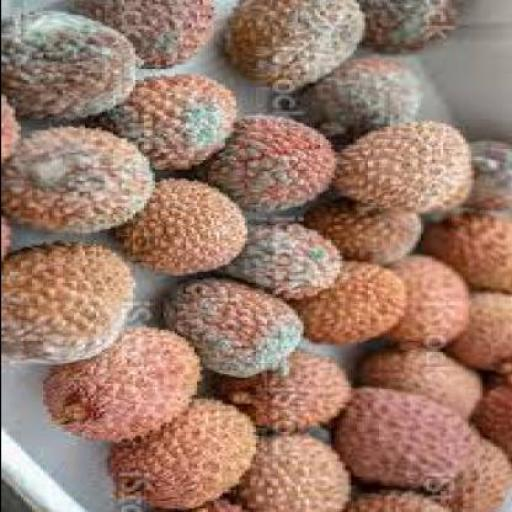biodegradable: (39, 326, 207, 440), (2, 122, 160, 234), (106, 396, 263, 507), (2, 8, 146, 120), (3, 243, 137, 363), (332, 385, 490, 486), (159, 275, 311, 376), (93, 74, 241, 168), (198, 114, 339, 210), (118, 177, 252, 276), (333, 120, 476, 210), (224, 0, 371, 87), (218, 348, 352, 430), (73, 0, 221, 69), (224, 218, 347, 300), (359, 348, 487, 426), (299, 58, 422, 139), (230, 432, 350, 510), (303, 259, 411, 343), (380, 254, 476, 344), (313, 197, 428, 261), (431, 209, 511, 289), (358, 0, 462, 54), (450, 288, 511, 377), (447, 434, 511, 512), (466, 372, 511, 458), (464, 138, 512, 210), (356, 488, 464, 510), (146, 497, 252, 510), (3, 91, 22, 160), (3, 214, 14, 256)
